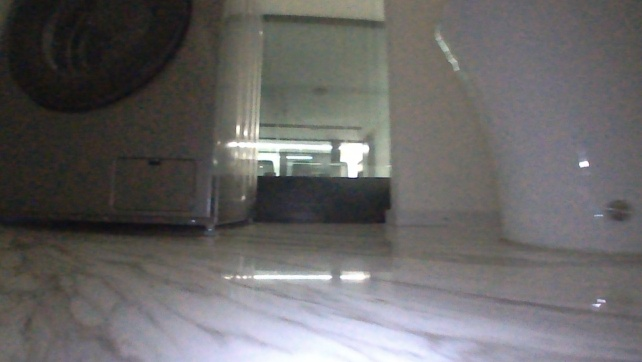toilet: (431, 0, 640, 256)
washing_machine: (0, 0, 265, 237)
